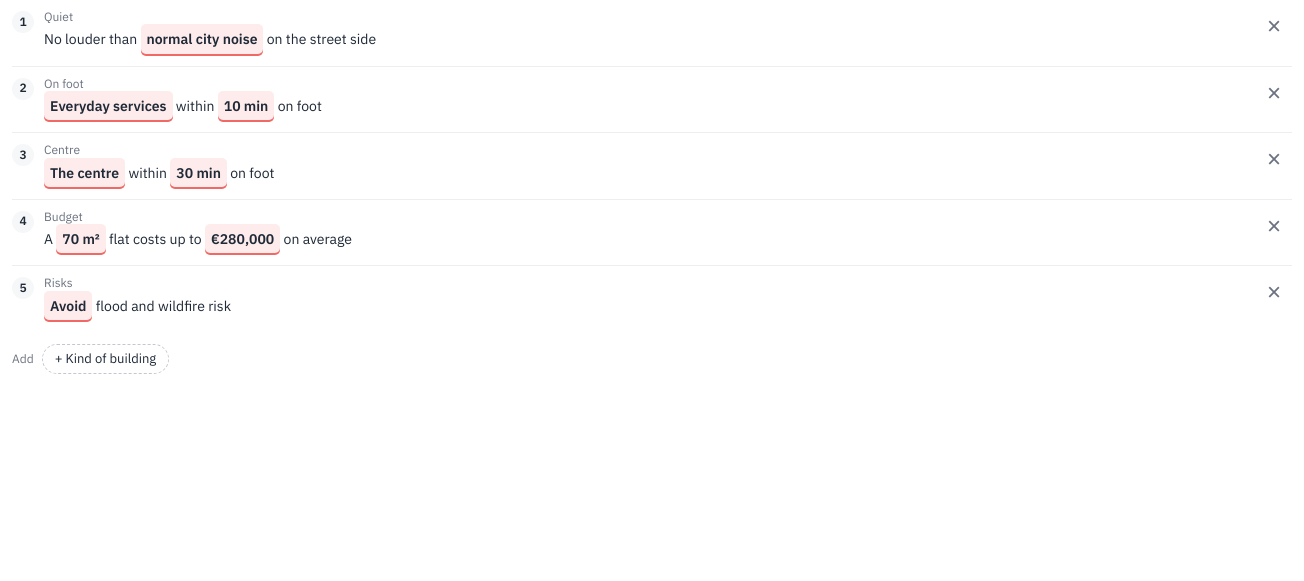
Test case: ConditionsEditor › word picker in place (072) › opens under its own sentence, inside the row
Step 1. Click the button "normal city noise" → (202, 40), box x1=140 y1=24 x2=264 y2=56
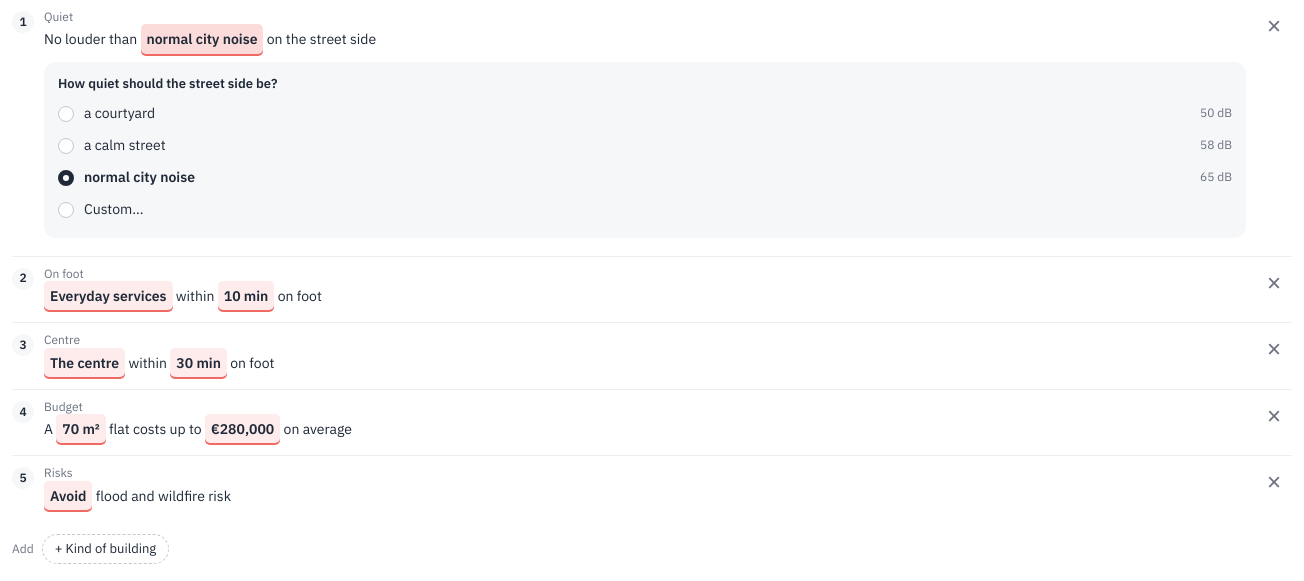
Check: the element with class "word-panel" is shown, box x1=44 y1=62 x2=1246 y2=238
Check: the radio button labelled "a courtyard 50 dB" is shown, box x1=58 y1=98 x2=1232 y2=130
